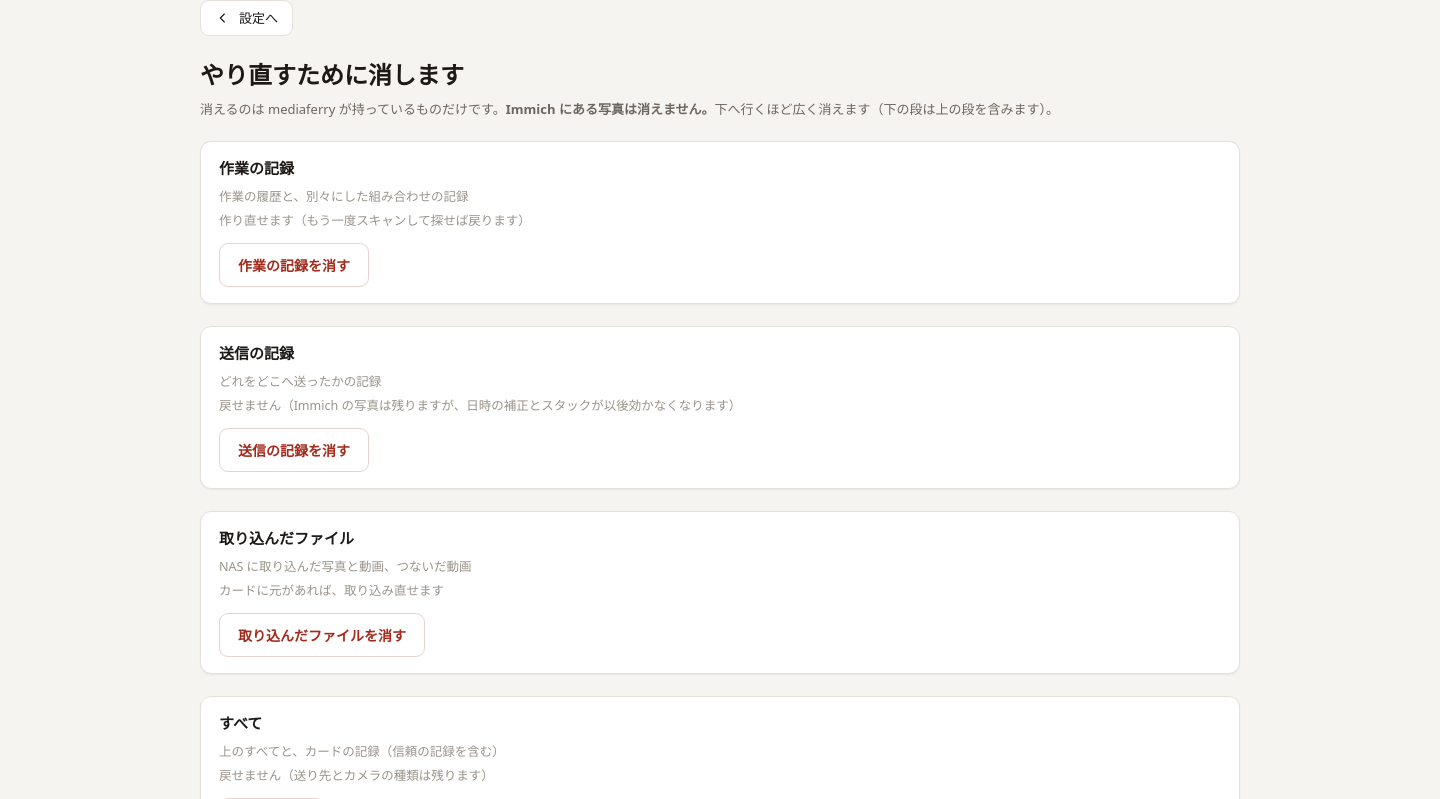
リセット › 走っている作業があって断られたら、理由を出す
This screenshot has width=1440, height=799.
Step 1. Click the button "作業の記録を消す" → [294, 265], box x1=219 y1=243 x2=369 y2=287
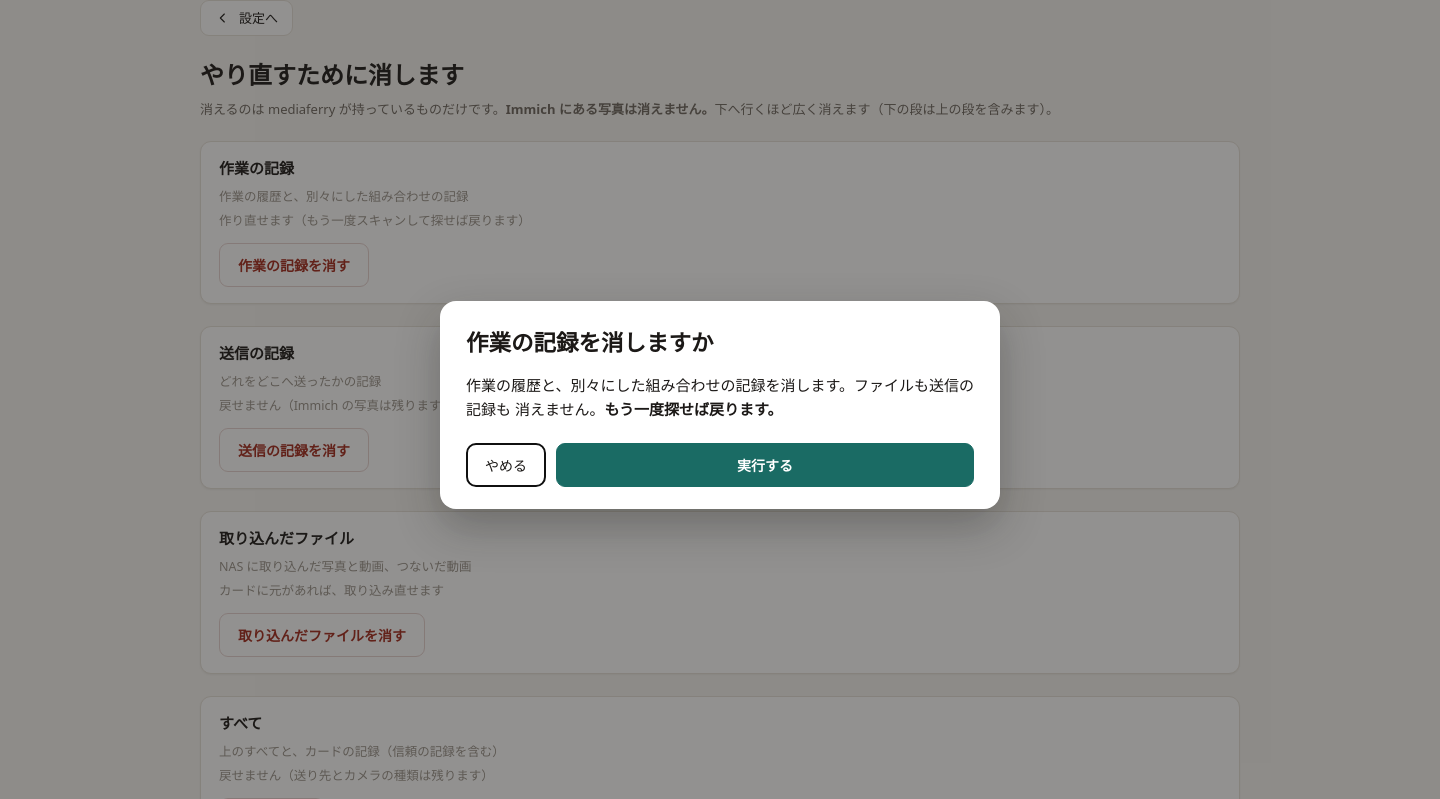
Step 2. Click the button "実行する" → [765, 465], box x1=556 y1=443 x2=974 y2=487
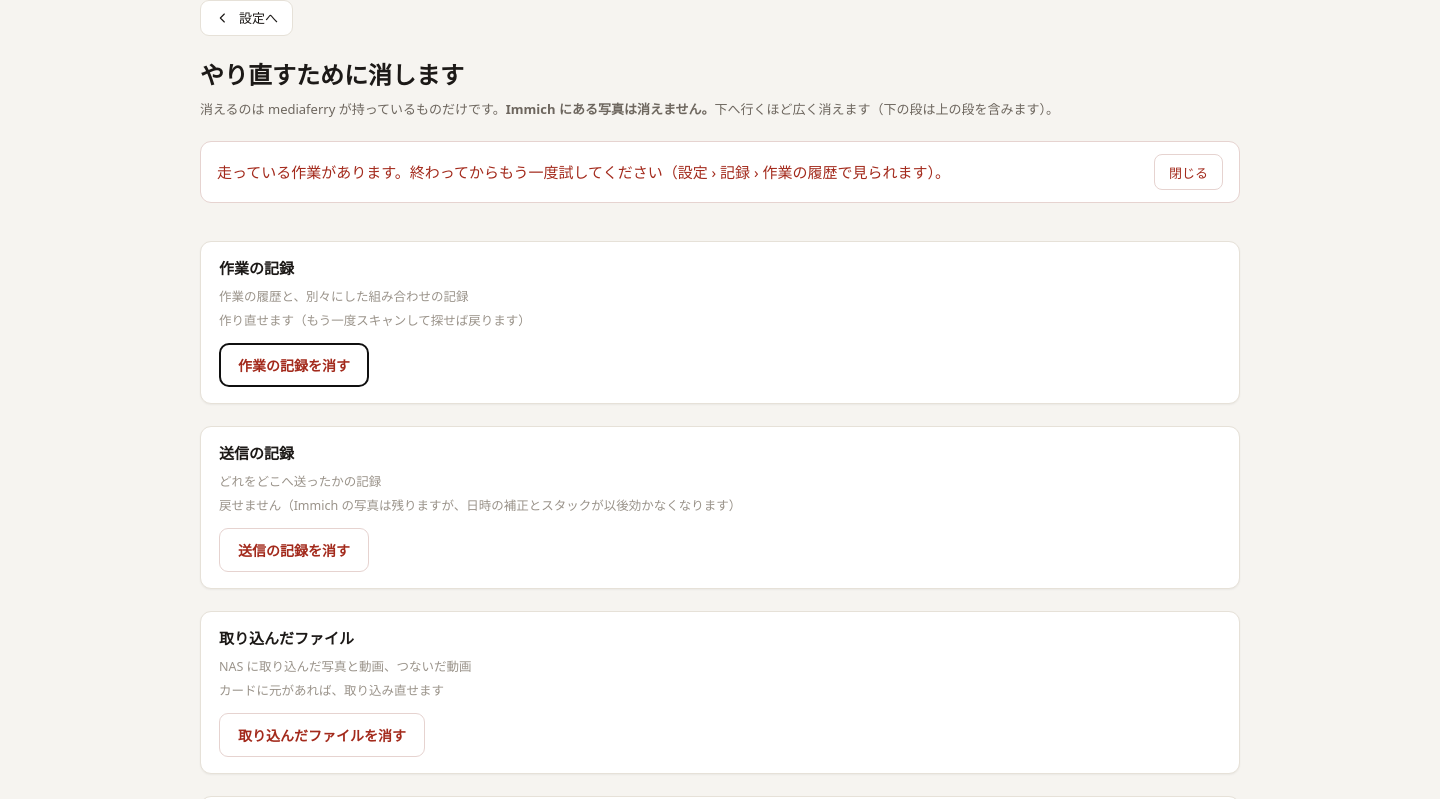
Expected: the message shows "走っている作業があります", x1=217 y1=162 x2=950 y2=182
